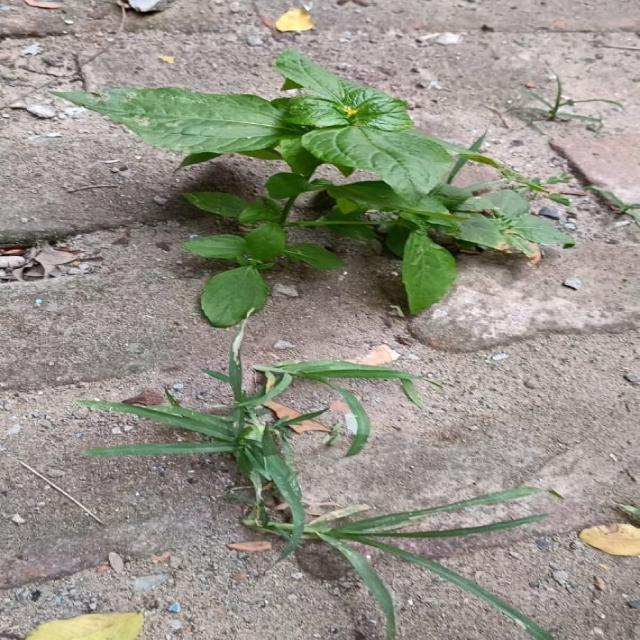weed: (53, 50, 575, 327)
